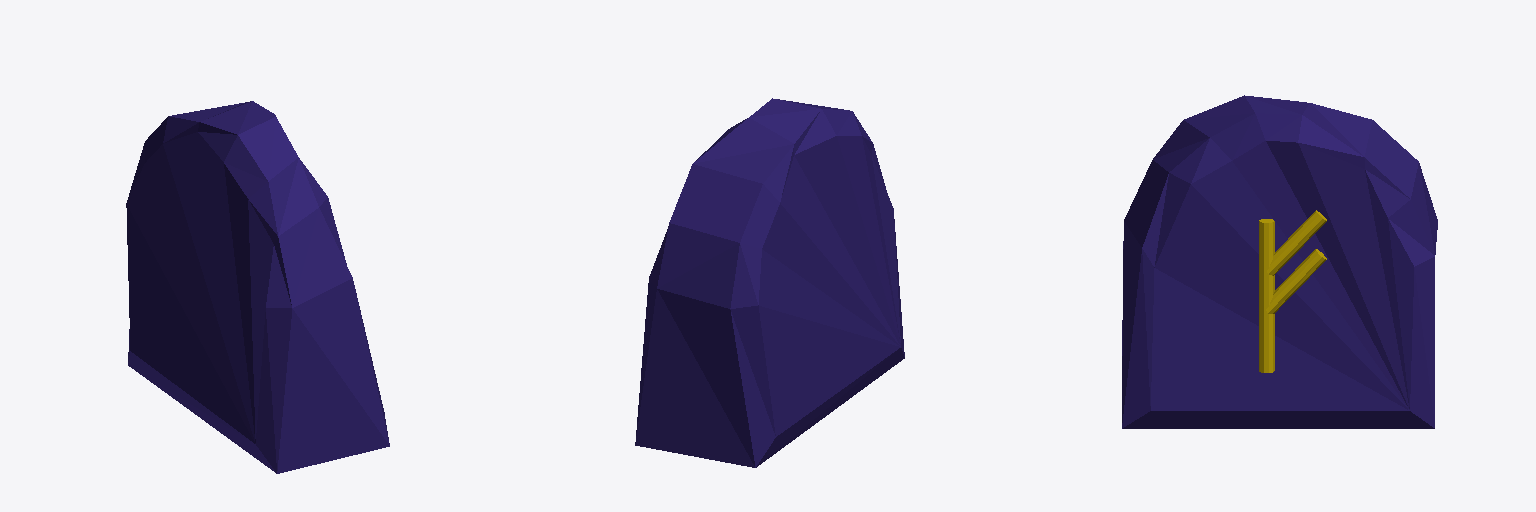
Rendered from runaTutorial.obj.
3 renders of one model, left to right at view 1: azimuth 30°, elevation 25°; view 2: azimuth 150°, elevation 25°; view 3: azimuth 270°, elevation 25°, orthographic.
Visible parts, largest first — view 1: Cube.001; view 2: Cube.001; view 3: Cube.001.
Boxes of the visible parts, x1,y1,x2,y2 form: Cube.001: [126, 101, 389, 473]; Cube.001: [635, 98, 904, 467]; Cube.001: [1122, 95, 1437, 428].
Size of the model in its own units: 0.385 by 0.8083 by 0.7902.